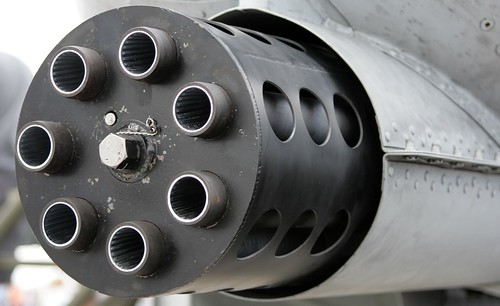weapon: (6, 9, 429, 306)
